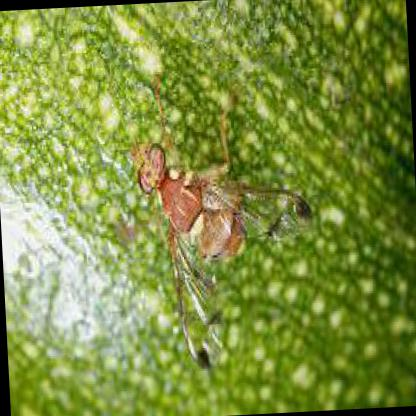fruit fly: (124, 80, 313, 367)
